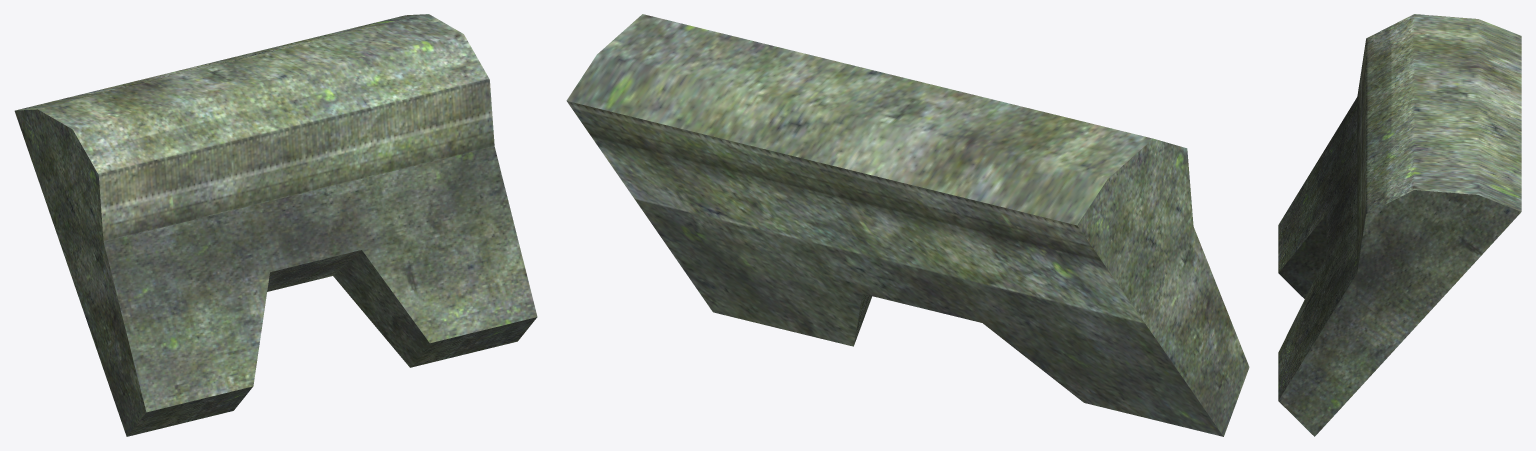
The model's file is fitting2.fbx.
The picture shows the model from 3 angles, left to right: view 1: azimuth 30°, elevation 25°; view 2: azimuth 150°, elevation 25°; view 3: azimuth 270°, elevation 25°; orthographic projection. The views are drawn at different scales.
Parts seen in each view (by area): view 1: Mesh Object; view 2: Mesh Object; view 3: Mesh Object.
Boxes of the visible parts, x1,y1,x2,y2 form: Mesh Object: (14,14,537,436); Mesh Object: (566,14,1249,436); Mesh Object: (1278,14,1521,436).
Bounding box in the file's own units: 0.5 × 0.3274 × 0.2922.
